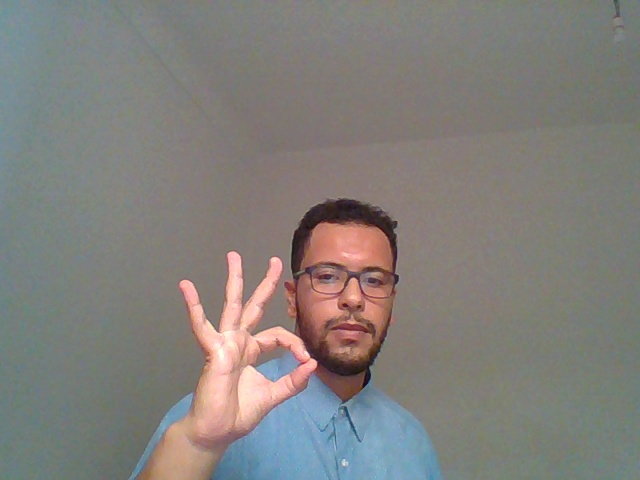okay: (146, 225, 321, 475)
